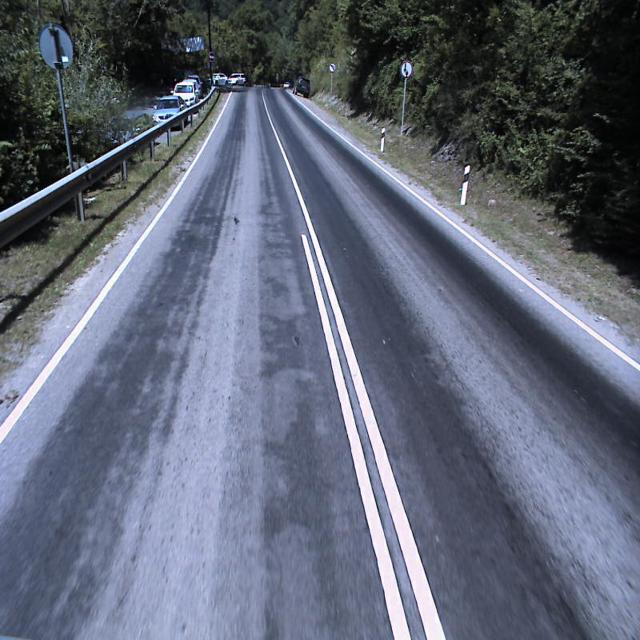road: (0, 86, 640, 639)
